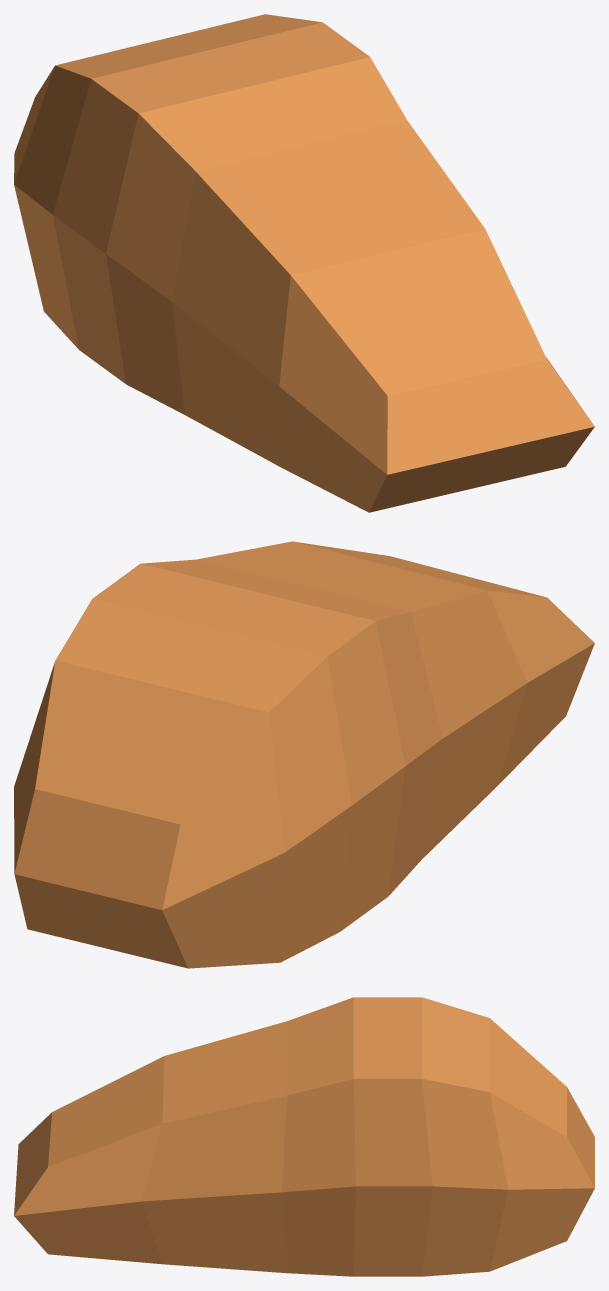
The picture shows the model from 3 angles, top to bottom: view 1: azimuth 30°, elevation 25°; view 2: azimuth 150°, elevation 25°; view 3: azimuth 270°, elevation 25°; orthographic projection. The views are drawn at different scales.
Visible parts, largest first — view 1: Cube; view 2: Cube; view 3: Cube.
Part boxes in pixels (x1,y1,x2,y2): Cube: (14,14,594,512); Cube: (14,541,594,968); Cube: (14,997,594,1276).
Size of the model in its own units: 2.29 by 2 by 5.44.
